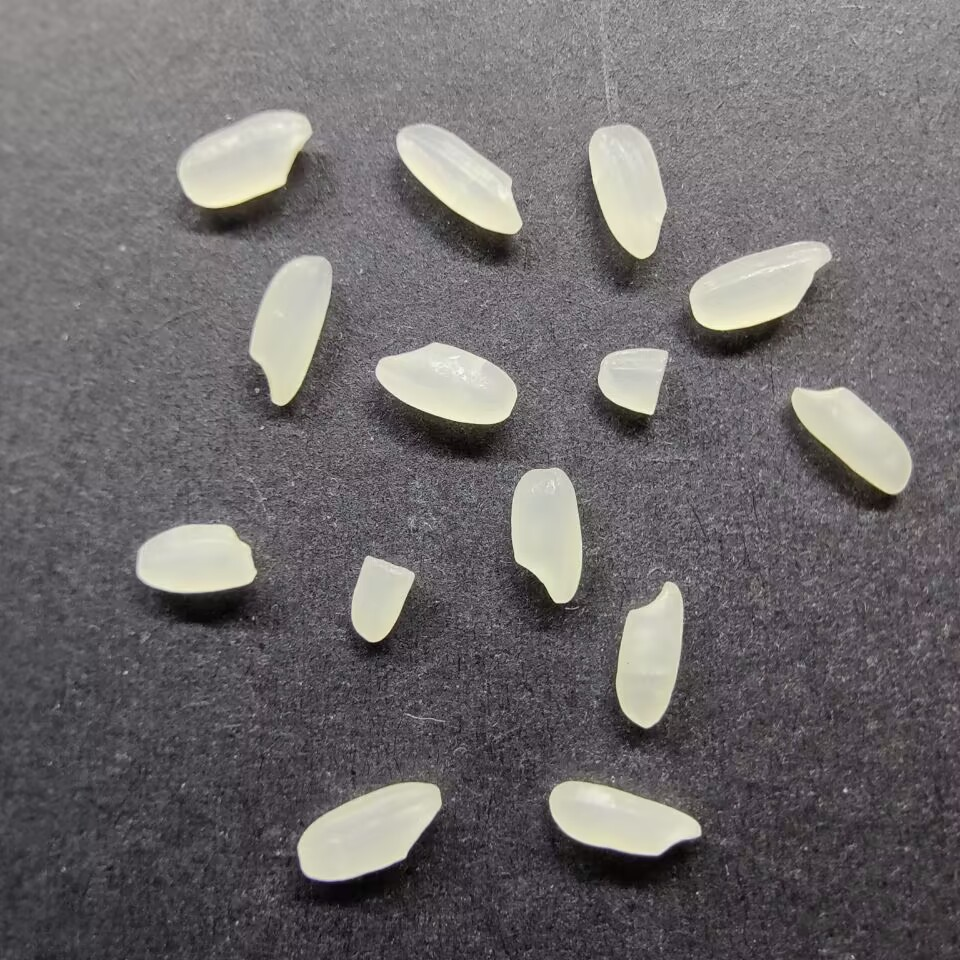broken: (347, 555, 415, 644), (595, 345, 670, 417)
rice: (294, 780, 443, 883), (394, 122, 525, 237), (174, 109, 313, 209), (788, 385, 914, 495), (246, 252, 335, 407), (686, 239, 833, 331), (373, 341, 518, 427), (548, 779, 703, 858), (586, 122, 669, 261), (507, 465, 584, 606), (614, 581, 687, 729), (131, 522, 258, 595)
